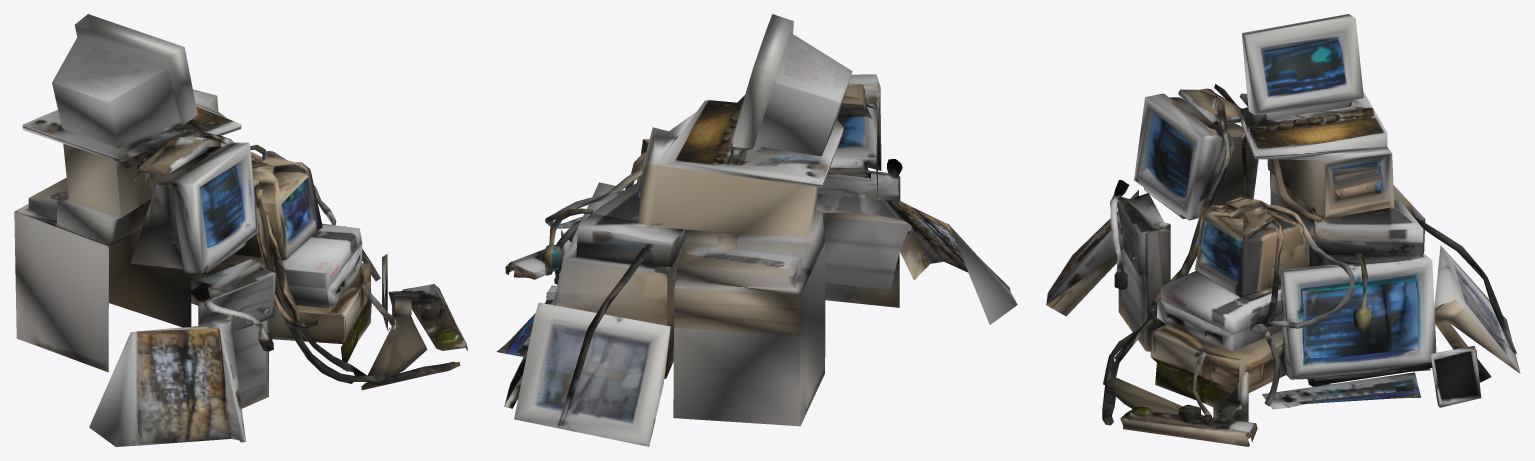
Rendered from pile.glb.
3 views of the same model, side by side, from view 1: azimuth 30°, elevation 25°; view 2: azimuth 150°, elevation 25°; view 3: azimuth 270°, elevation 25° (orthographic). The views are drawn at different scales.
Visible parts, largest first — view 1: Pile; view 2: Pile; view 3: Pile.
Boxes of the visible parts, x1=… form: Pile: x1=14, y1=14, x2=467, y2=446; Pile: x1=496, y1=14, x2=1017, y2=446; Pile: x1=1046, y1=14, x2=1520, y2=446.
Size of the model in its own units: 2.94 by 2.21 by 3.14.
Materials: 1 (1 with a texture image).
